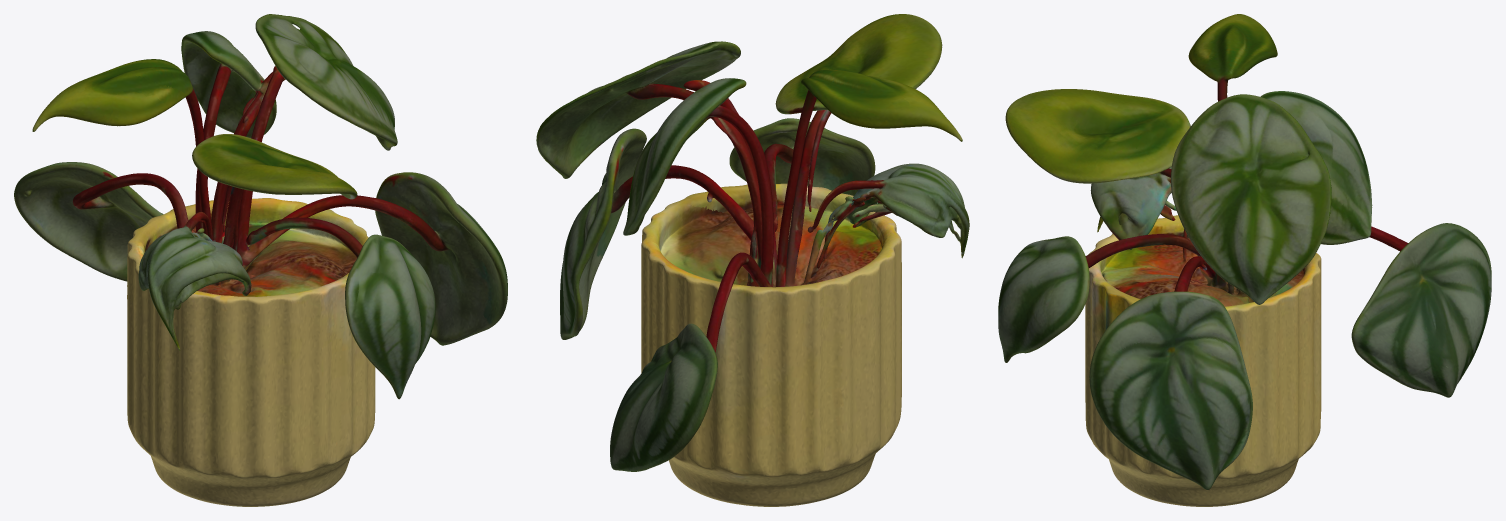
3 renders of one model, left to right at view 1: azimuth 30°, elevation 25°; view 2: azimuth 150°, elevation 25°; view 3: azimuth 270°, elevation 25°, orthographic. The views are drawn at different scales.
Visible parts, largest first — view 1: tripo_node_f5bc164e; view 2: tripo_node_f5bc164e; view 3: tripo_node_f5bc164e.
Part boxes in pixels (x1,y1,x2,y2): tripo_node_f5bc164e: [14, 14, 507, 506]; tripo_node_f5bc164e: [536, 14, 969, 506]; tripo_node_f5bc164e: [998, 14, 1491, 506].
Size of the model in its own units: 90.57 by 87.46 by 100.
Materials: 1 (1 with a texture image).
